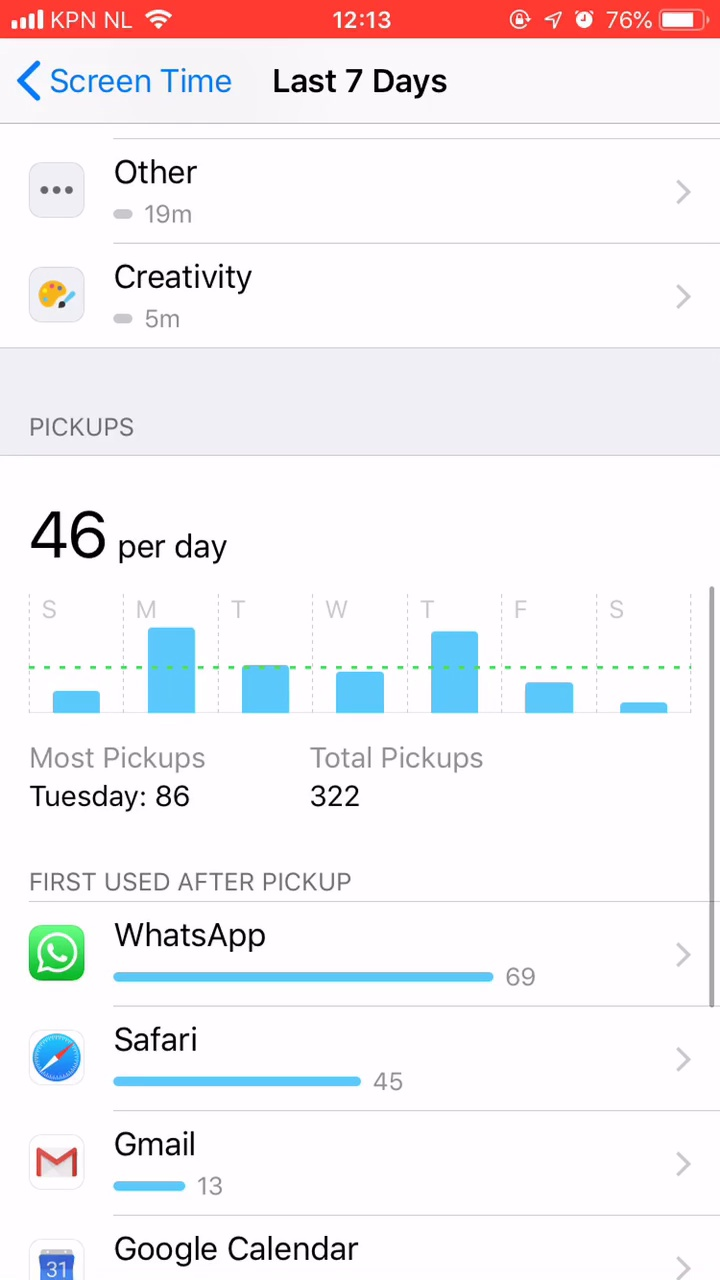pick_app: (17, 911, 575, 989), (14, 1008, 436, 1094), (15, 1107, 271, 1200)
pick_over: (26, 741, 545, 825)
week: (262, 58, 481, 111)
